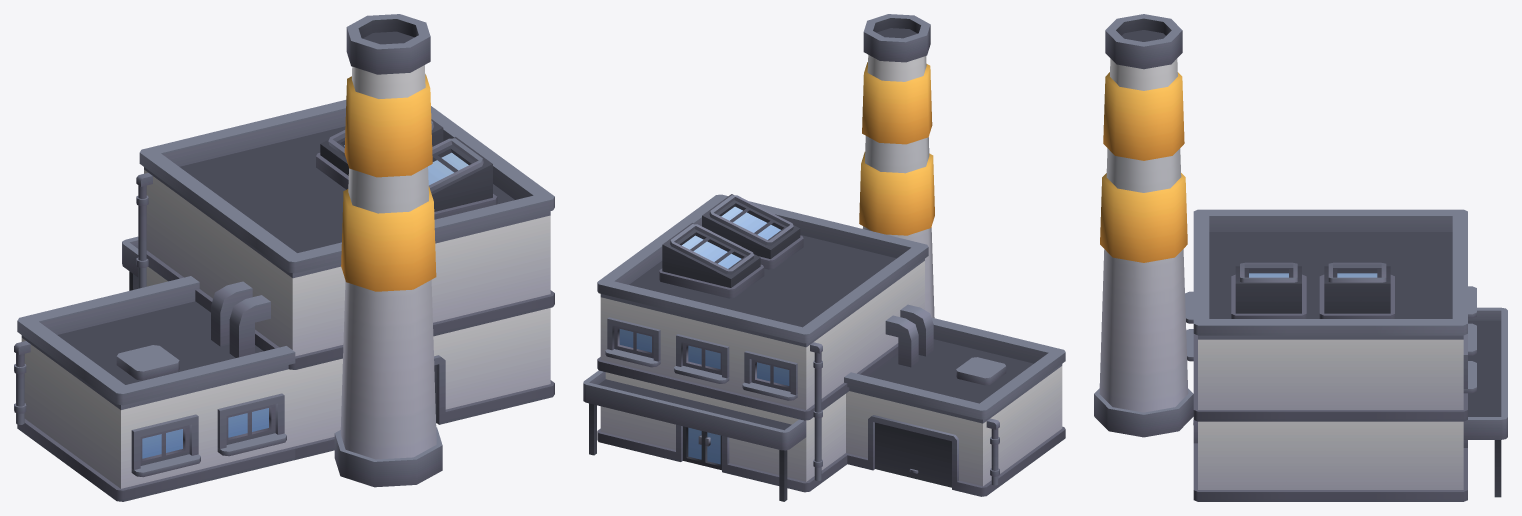
File: building-l.glb
3 views of the same model, side by side, from view 1: azimuth 30°, elevation 25°; view 2: azimuth 150°, elevation 25°; view 3: azimuth 270°, elevation 25° (orthographic). The views are drawn at different scales.
Parts seen in each view (by area): view 1: building-l; view 2: building-l; view 3: building-l.
Boxes of the visible parts, left/top/right/bottom form: building-l: left=14, top=14, right=554, bottom=501; building-l: left=583, top=14, right=1065, bottom=501; building-l: left=1094, top=14, right=1507, bottom=501.
Bounding box in the file's own units: 2.08 × 1.93 × 1.87.
1 material, 1 textured.
